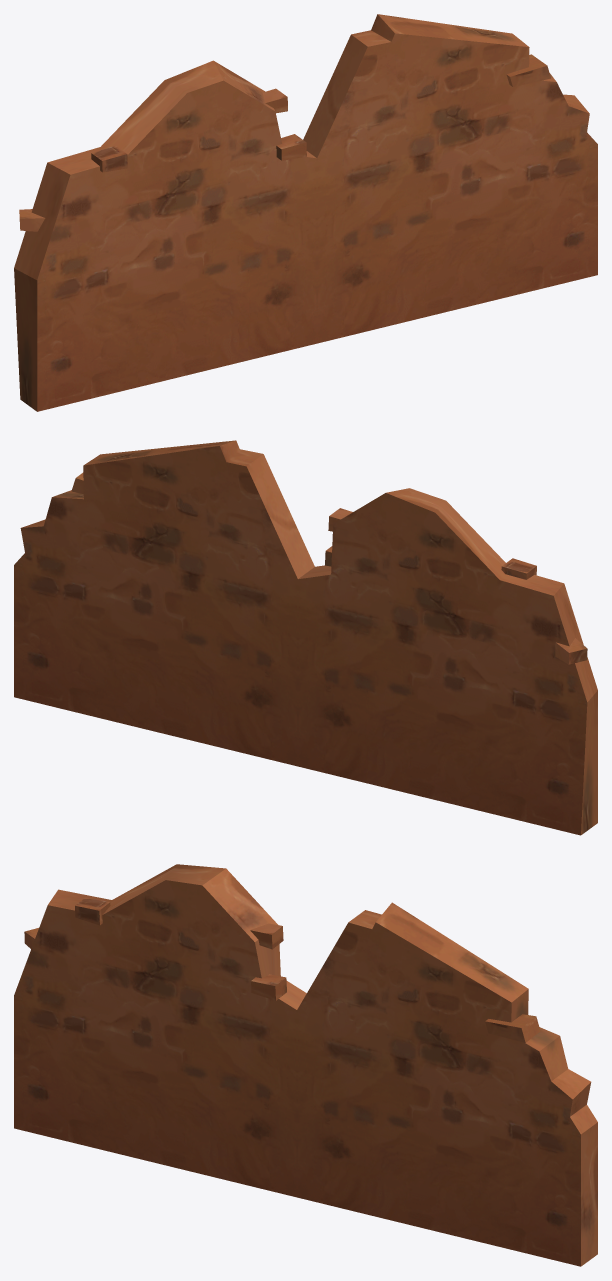
File: oBldWalDirt01D.FBX
The picture shows the model from 3 angles, top to bottom: view 1: azimuth 30°, elevation 25°; view 2: azimuth 150°, elevation 25°; view 3: azimuth 330°, elevation 25°; orthographic projection.
Visible parts, largest first — view 1: oBldWalDirt01D; view 2: oBldWalDirt01D; view 3: oBldWalDirt01D.
Part boxes in pixels (x1,y1,x2,y2): oBldWalDirt01D: (14, 14, 597, 411); oBldWalDirt01D: (14, 440, 597, 835); oBldWalDirt01D: (14, 864, 597, 1266).
Size of the model in its own units: 40.14 by 20.18 by 3.5.
1 material, 1 textured.
